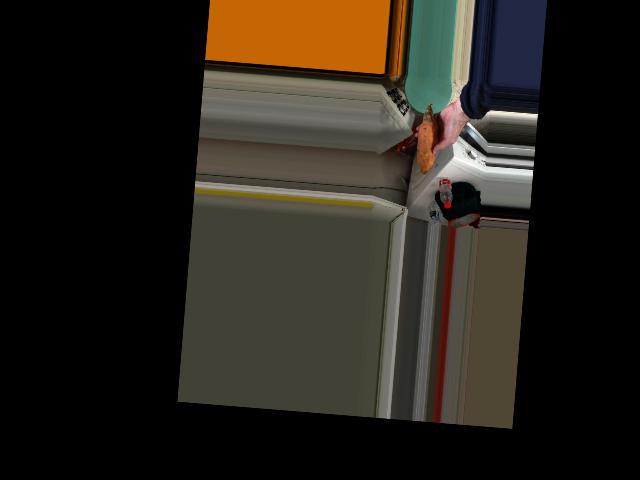sweet_potato: (418, 112, 438, 165)
